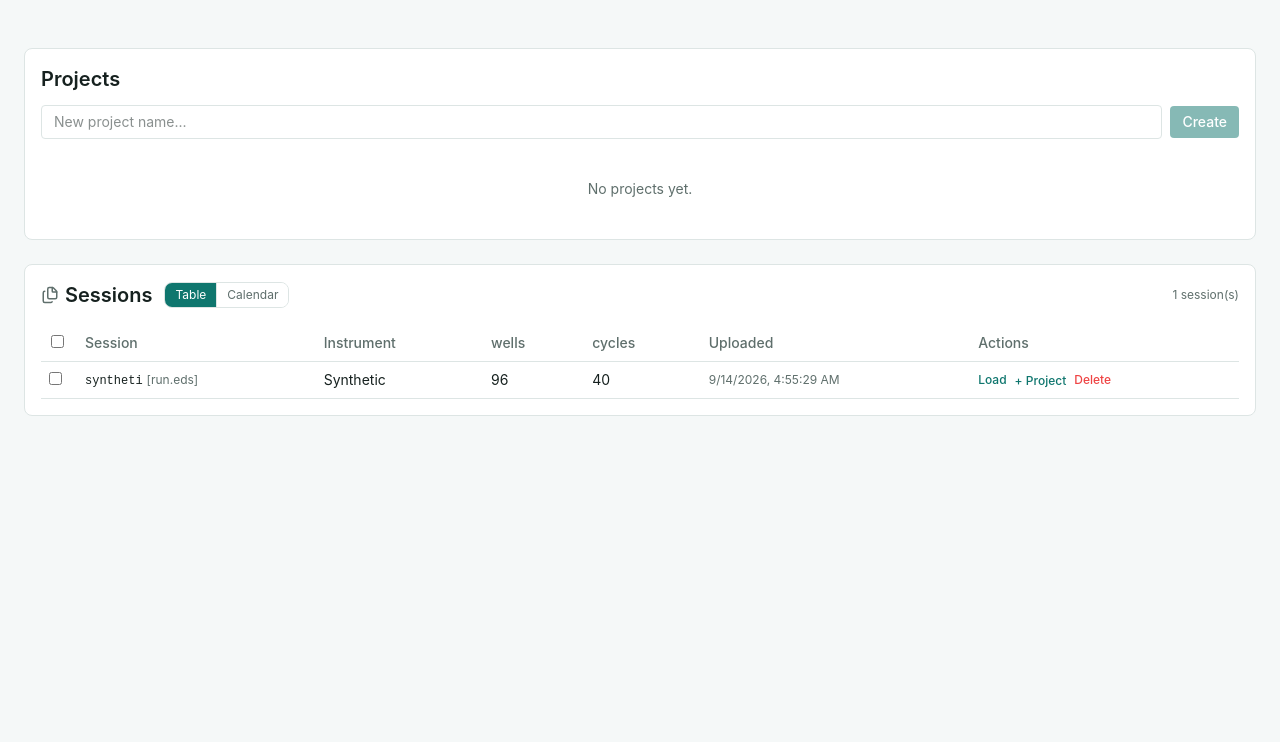
Test: keeps the table view as the default and preserves the existing table when switching back
Check: the text "[run.eds]" is shown, box x1=147 y1=372 x2=198 y2=386
Check: the column heading "Instrument" is shown, box x1=312 y1=325 x2=479 y2=362
Click the button "Calendar": coordinates (252, 295) x1=216 y1=283 x2=288 y2=307
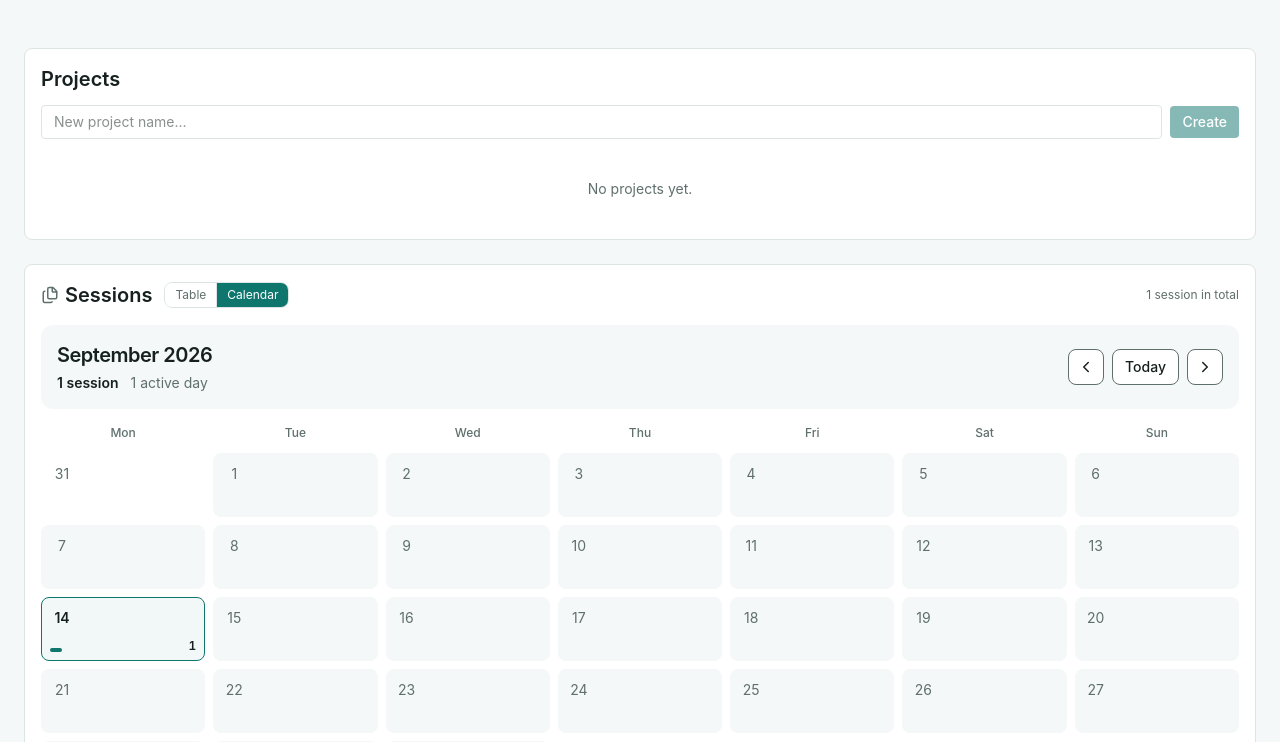
Check: the column heading "Instrument" is gone
Click the button "Table": coordinates (191, 295) x1=166 y1=283 x2=216 y2=307
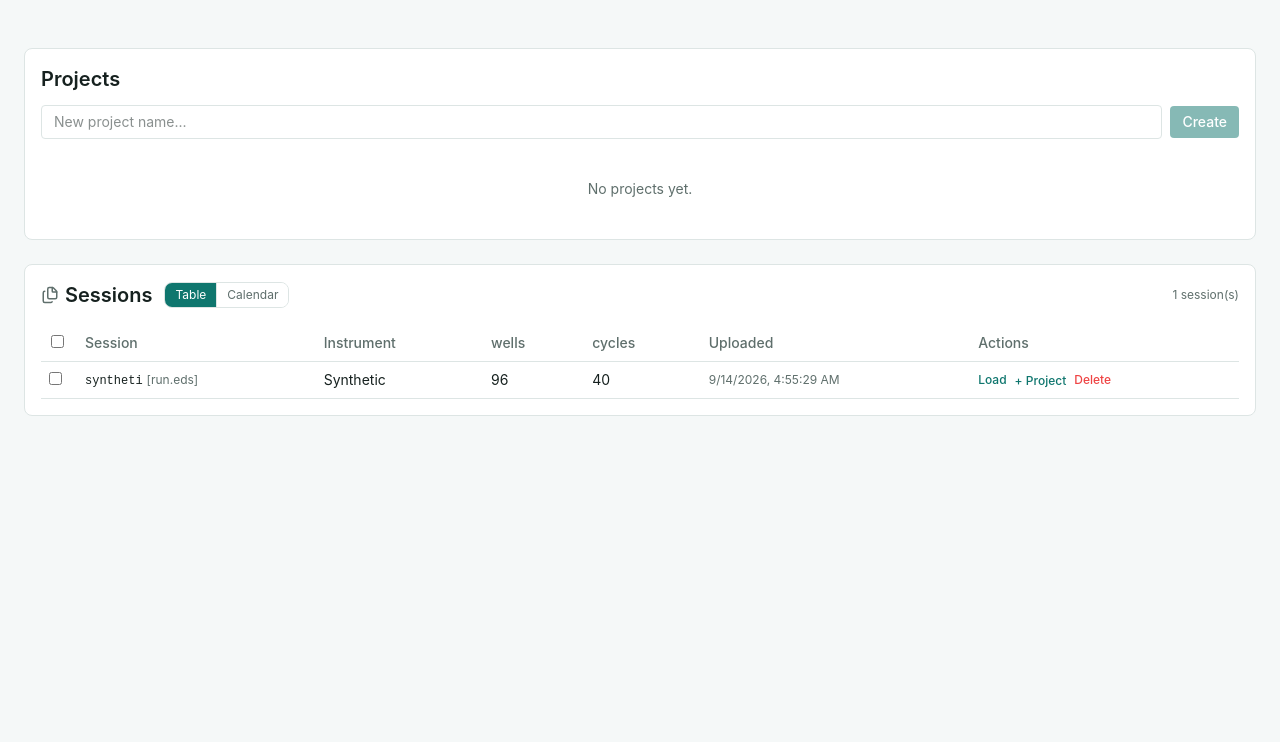
Check: the column heading "Instrument" is shown, box x1=312 y1=325 x2=479 y2=362
